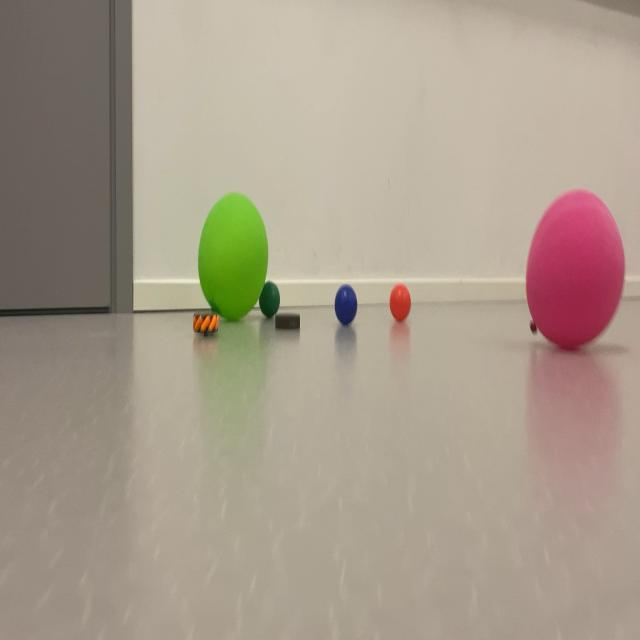7: (384, 279, 414, 356)
green ball: (330, 272, 367, 364)
red ball: (258, 273, 280, 327)
